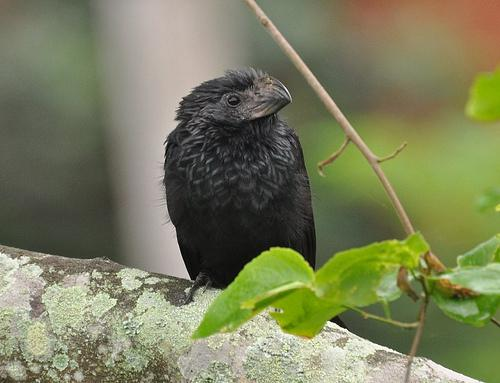004.Groove_billed_Ani: (159, 68, 351, 331)
